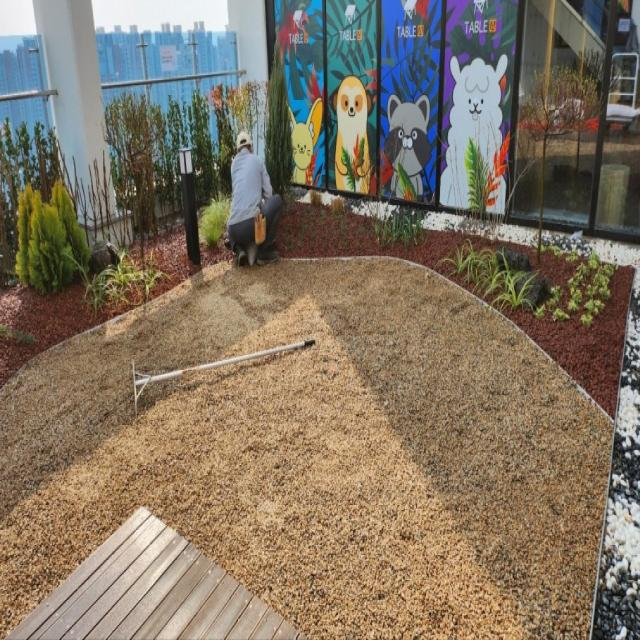plant: (523, 66, 606, 268), (0, 118, 89, 294), (163, 82, 263, 223), (103, 90, 162, 242), (437, 240, 538, 316), (67, 249, 169, 309), (539, 244, 613, 326), (265, 35, 295, 214), (371, 204, 423, 249), (199, 192, 232, 244)
